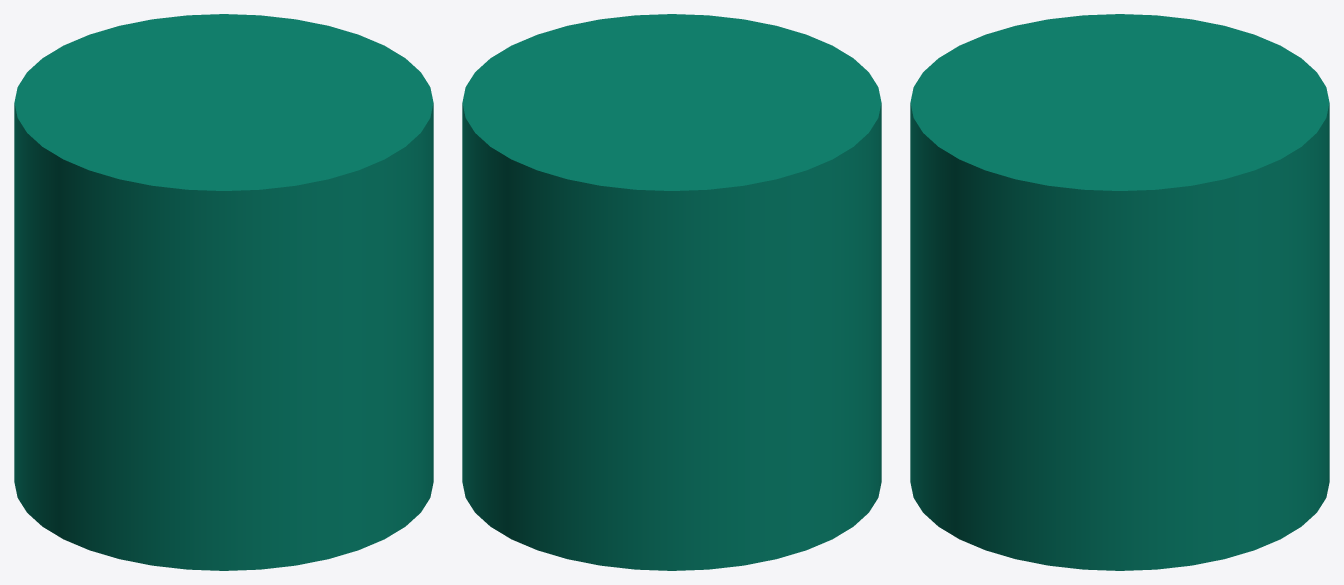
3 renders of one model, left to right at view 1: azimuth 30°, elevation 25°; view 2: azimuth 150°, elevation 25°; view 3: azimuth 270°, elevation 25°, orthographic.
Parts seen in each view (by area): view 1: Cylinder001; view 2: Cylinder001; view 3: Cylinder001.
Part boxes in pixels (x1=…): Cylinder001: x1=14, y1=14, x2=433, y2=570; Cylinder001: x1=462, y1=14, x2=881, y2=570; Cylinder001: x1=910, y1=14, x2=1329, y2=570.
Size of the model in its own units: 100 by 100 by 100.
